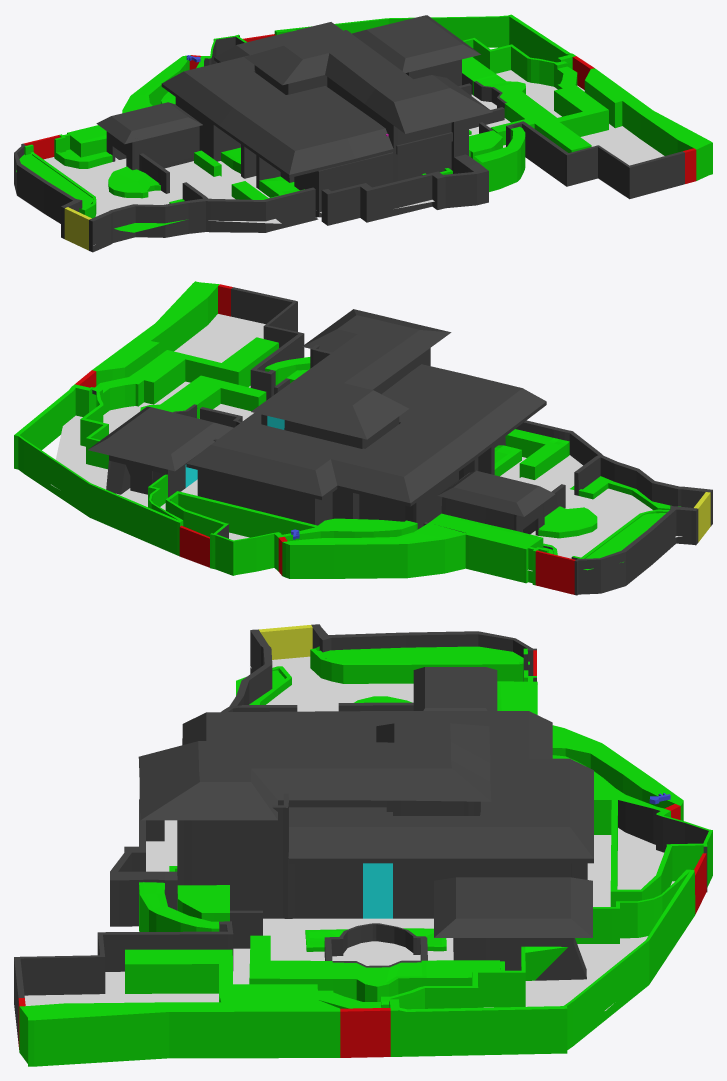
File: AvanceViernes2.fbx
3 renders of one model, top to bottom at view 1: azimuth 30°, elevation 25°; view 2: azimuth 150°, elevation 25°; view 3: azimuth 270°, elevation 25°, orthographic. The views are drawn at different scales.
Parts seen in each view (by area): view 1: BlockoutPrincipal, Techo.002, Techo, Techo.001, Suelo, Plane.001, Plane, Plane.005, Plane.007, Cube.008; view 2: BlockoutPrincipal, Techo.002, Techo, Plane.001, Techo.001, Suelo, Plane, Plane.005, Plane.007; view 3: BlockoutPrincipal, Techo.002, Techo, Plane.001, Techo.001, Plane, Suelo, Plane.005.
Part boxes in pixels (left/top/right/bottom): BlockoutPrincipal: left=14, top=14, right=712, bottom=252; Techo.002: left=161, top=22, right=393, bottom=177; Techo: left=244, top=30, right=492, bottom=133; Techo.001: left=352, top=15, right=480, bottom=73; Suelo: left=44, top=157, right=281, bottom=223; Plane.001: left=93, top=70, right=664, bottom=245; Plane: left=96, top=102, right=202, bottom=144; Plane.005: left=16, top=153, right=93, bottom=209; Plane.007: left=110, top=166, right=159, bottom=191; Cube.008: left=396, top=132, right=452, bottom=154; BlockoutPrincipal: left=14, top=281, right=712, bottom=595; Techo.002: left=186, top=364, right=546, bottom=506; Techo: left=251, top=309, right=451, bottom=439; Plane.001: left=51, top=314, right=682, bottom=540; Techo.001: left=88, top=406, right=233, bottom=471; Suelo: left=516, top=455, right=652, bottom=571; Plane: left=437, top=470, right=554, bottom=516; Plane.005: left=583, top=513, right=665, bottom=570; Plane.007: left=539, top=506, right=595, bottom=531; BlockoutPrincipal: left=14, top=624, right=712, bottom=1066; Techo.002: left=182, top=711, right=593, bottom=863; Techo: left=138, top=723, right=491, bottom=820; Plane.001: left=24, top=666, right=674, bottom=1010; Techo.001: left=434, top=877, right=592, bottom=937; Plane: left=413, top=667, right=497, bottom=710; Suelo: left=266, top=656, right=413, bottom=711; Plane.005: left=318, top=646, right=529, bottom=664.
Bounding box in the file's own units: 1405 × 230 × 1043.
